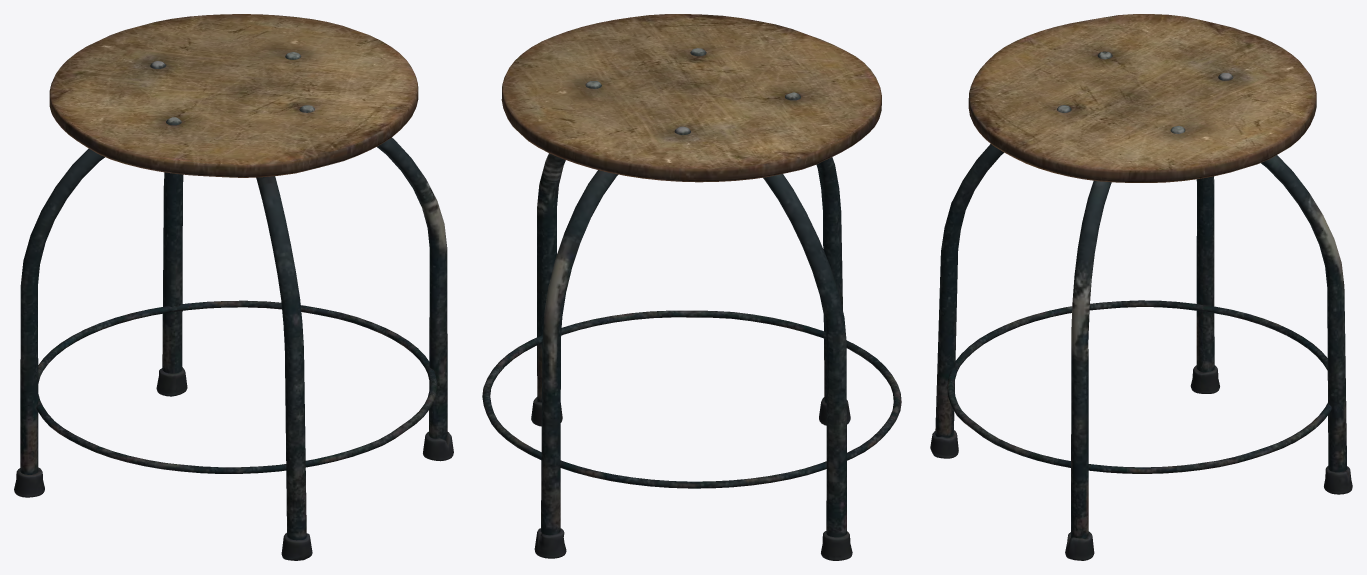
The model's file is ph-metal-stool-02.glb.
The picture shows the model from 3 angles, left to right: view 1: azimuth 30°, elevation 25°; view 2: azimuth 150°, elevation 25°; view 3: azimuth 270°, elevation 25°; orthographic projection. The views are drawn at different scales.
Visible parts, largest first — view 1: metal_stool_02; view 2: metal_stool_02; view 3: metal_stool_02.
Boxes of the visible parts, <box> form: metal_stool_02: <box>14,14,453,560</box>; metal_stool_02: <box>482,14,901,560</box>; metal_stool_02: <box>930,14,1352,560</box>.
Size of the model in its own units: 1 by 0.9995 by 1.
Materials: 1 (1 with a texture image).
